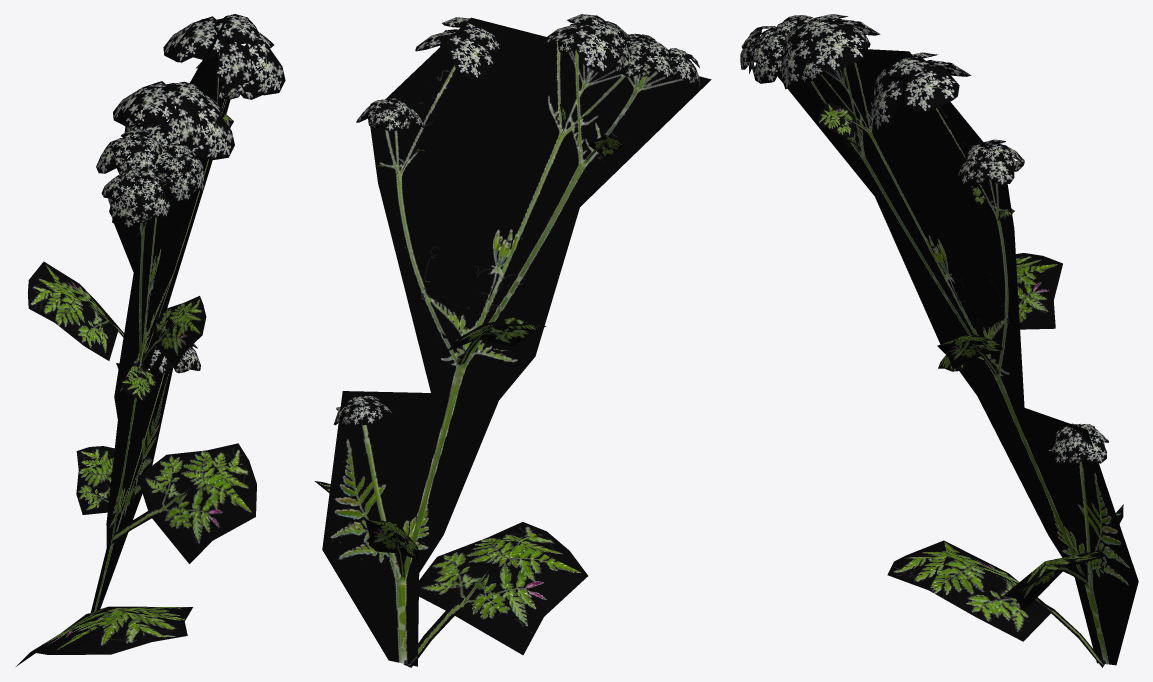
File: 02_Anthriscus_sylvestris_01_001.fbx
3 views of the same model, side by side, from view 1: azimuth 30°, elevation 25°; view 2: azimuth 150°, elevation 25°; view 3: azimuth 270°, elevation 25° (orthographic). The views are drawn at different scales.
Visible parts, largest first — view 1: 02_Anthriscus_sylvestris_01.001; view 2: 02_Anthriscus_sylvestris_01.001; view 3: 02_Anthriscus_sylvestris_01.001.
Part boxes in pixels (bbox=[...]): 02_Anthriscus_sylvestris_01.001: bbox=[16, 14, 285, 666]; 02_Anthriscus_sylvestris_01.001: bbox=[314, 14, 711, 667]; 02_Anthriscus_sylvestris_01.001: bbox=[740, 14, 1138, 667].
Size of the model in its own units: 0.1982 by 0.4345 by 0.2494.
